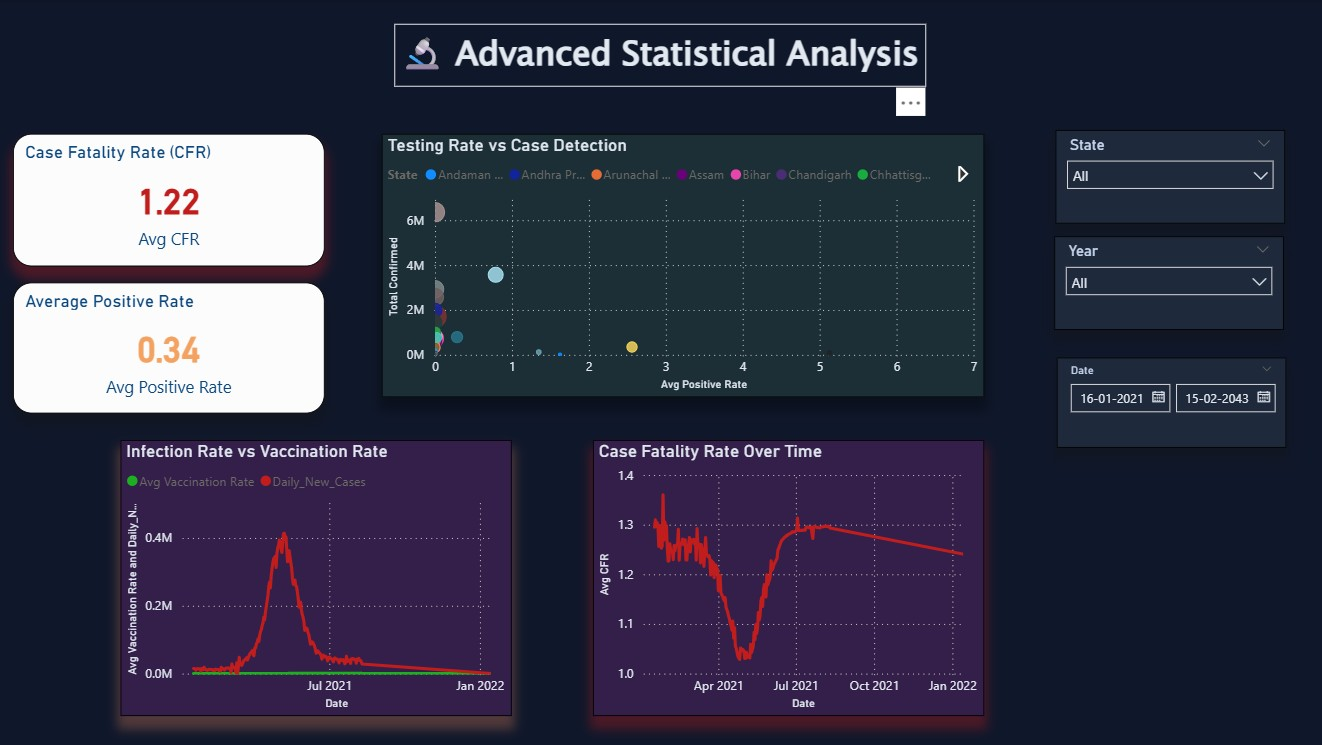

The dashboard page shown, as its layout file describes it:
{"tool":"powerbi","page":{"name":"Advanced Analysis","canvas":[1280,720],"ordinal":6},"visuals":[{"type":"textbox","box":[382.4,22.9,513.9,60.3],"z":0},{"type":"card","title":"Case Fatality Rate (CFR)","fields":{"Values":["RawData.Avg CFR"]},"box":[14.5,129.1,300.4,127.9],"z":1000},{"type":"card","title":"Average Positive Rate","fields":{"Values":["RawData.Avg Positive Rate"]},"box":[14.5,272.7,300.4,126.7],"z":2000},{"type":"scatterChart","title":"Testing Rate vs Case Detection","fields":{"Series":["RawData.State"],"Y":["RawData.Total Confirmed"],"Size":["RawData.Total Tests"],"X":["RawData.Avg Positive Rate"]},"box":[370.4,129.1,581.5,254.6],"z":3000},{"type":"lineChart","title":"Case Fatality Rate Over Time","fields":{"Category":["DateTable.Date"],"Y":["RawData.Avg CFR"]},"box":[574.3,424.7,377.6,266.6],"z":4000},{"type":"lineChart","title":"Infection Rate vs Vaccination Rate","fields":{"Category":["DateTable.Date"],"Y":["RawData.Avg Vaccination Rate","RawData.Daily_New_Cases"]},"box":[118.2,424.7,377.6,266.6],"z":5000},{"type":"slicer","fields":{"Values":["RawData.State"]},"box":[1020.8,126.1,221.2,90],"z":6000},{"type":"slicer","fields":{"Values":["DateTable.Year"]},"box":[1020,227.6,221.2,90],"z":7000},{"type":"slicer","fields":{"Values":["DateTable.Date"]},"box":[1021.3,345.1,221.2,87.5],"z":8000}]}

Visuals, with their boxes in screenshot pixels (x1, y1, x2, y2), scaled from the page's 1280x720 canvas onto the 1322x745 screenshot:
textbox: left=395, top=24, right=926, bottom=86
"Case Fatality Rate (CFR)" card: left=15, top=134, right=325, bottom=266
"Average Positive Rate" card: left=15, top=282, right=325, bottom=413
"Testing Rate vs Case Detection" scatterChart: left=383, top=134, right=983, bottom=397
"Case Fatality Rate Over Time" lineChart: left=593, top=439, right=983, bottom=715
"Infection Rate vs Vaccination Rate" lineChart: left=122, top=439, right=512, bottom=715
slicer - RawData.State: left=1054, top=130, right=1283, bottom=224
slicer - DateTable.Year: left=1053, top=236, right=1282, bottom=329
slicer - DateTable.Date: left=1055, top=357, right=1283, bottom=448
